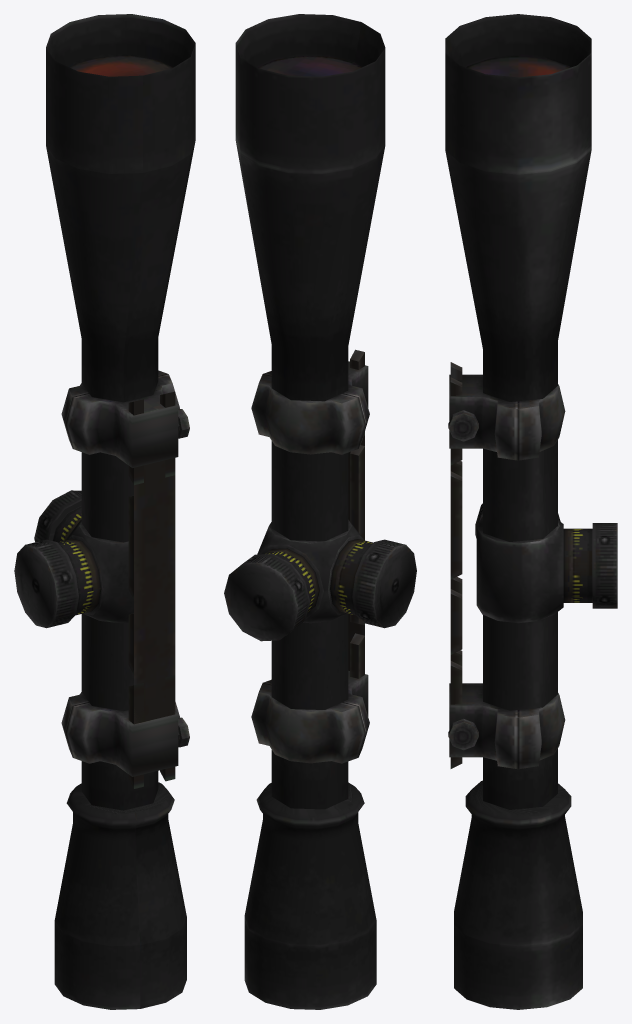
Rendered from 8xscope.fbx.
3 views of the same model, side by side, from view 1: azimuth 30°, elevation 25°; view 2: azimuth 150°, elevation 25°; view 3: azimuth 270°, elevation 25° (orthographic).
Visible parts, largest first — view 1: 8xscope; view 2: 8xscope; view 3: 8xscope.
Boxes of the visible parts, x1,y1,x2,y2 form: 8xscope: [14, 14, 195, 1009]; 8xscope: [224, 14, 416, 1009]; 8xscope: [445, 14, 617, 1009].
Bounding box in the file's own units: 0.0394 × 0.2355 × 0.0393.
